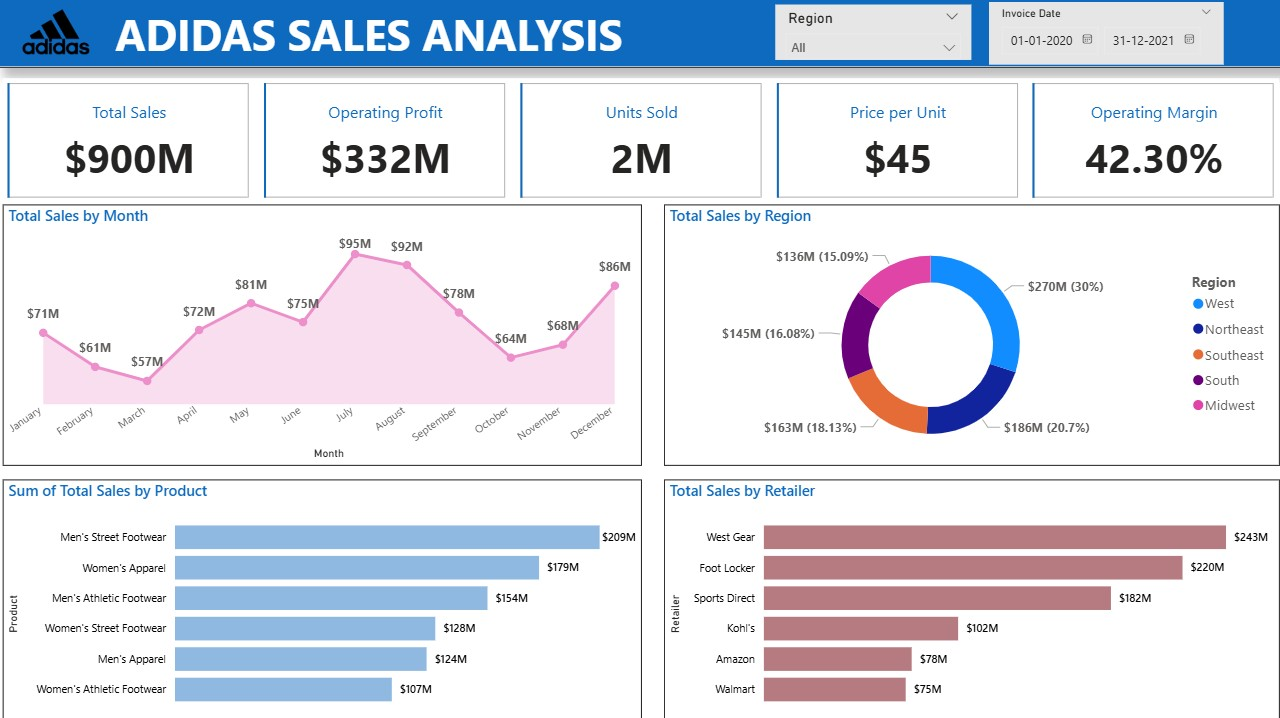

The page's visual inventory and layout, read from the dashboard file:
{"tool":"powerbi","page":{"name":"Page 1","canvas":[1280,720],"ordinal":0},"visuals":[{"type":"shape","box":[0,0,1280,70],"z":0},{"type":"textbox","box":[111.1,2.7,550.3,67.2],"z":1000},{"type":"cardVisual","fields":{"Data":["Sum(Data Sales Adidas.Total Sales)","Sum(Data Sales Adidas.Operating Profit)","Sum(Data Sales Adidas.Units Sold)","Avg(Data Sales Adidas.Price per Unit)","Avg(Data Sales Adidas.Operating Margin)"]},"box":[4.1,81,1270.7,124.9],"z":2000},{"type":"areaChart","title":"Total Sales by Month","fields":{"Category":["Data Sales Adidas.Invoice Date.Variation.Date Hierarchy.Month"],"Y":["Sum(Data Sales Adidas.Total Sales)"]},"box":[3.8,206.2,636.2,260],"z":3000},{"type":"donutChart","title":"Total Sales by Region","fields":{"Y":["Sum(Data Sales Adidas.Total Sales)"],"Category":["Data Sales Adidas.Region"]},"box":[661.2,206.2,612.5,260],"z":4000},{"type":"barChart","fields":{"Category":["Data Sales Adidas.Product"],"Y":["Sum(Data Sales Adidas.Total Sales)"]},"box":[3.8,480,636.2,240],"z":5000},{"type":"barChart","title":"Total Sales by Retailer","fields":{"Category":["Data Sales Adidas.Retailer"],"Y":["Sum(Data Sales Adidas.Total Sales)"]},"box":[661.2,480,612.5,240],"z":6000},{"type":"slicer","fields":{"Values":["Data Sales Adidas.Region"]},"box":[772.5,7.5,195,55],"z":7000},{"type":"slicer","fields":{"Values":["Data Sales Adidas.Invoice Date"]},"box":[985,5,233.8,62.5],"z":8000},{"type":"image","box":[18.8,7.5,76.2,55],"z":9000}]}

Visuals, with their boxes in screenshot pixels (x1, y1, x2, y2), scaled from the page's 1280x720 canvas onto the 1280x718 screenshot:
shape: <box>0,0,1279,70</box>
textbox: <box>111,3,661,70</box>
cardVisual - Sum(Data Sales Adidas.Total Sales) x Sum(Data Sales Adidas.Operating Profit): <box>4,81,1275,205</box>
"Total Sales by Month" areaChart: <box>4,206,640,465</box>
"Total Sales by Region" donutChart: <box>661,206,1274,465</box>
barChart - Data Sales Adidas.Product x Sum(Data Sales Adidas.Total Sales): <box>4,479,640,717</box>
"Total Sales by Retailer" barChart: <box>661,479,1274,717</box>
slicer - Data Sales Adidas.Region: <box>772,7,968,62</box>
slicer - Data Sales Adidas.Invoice Date: <box>985,5,1219,67</box>
image: <box>19,7,95,62</box>
